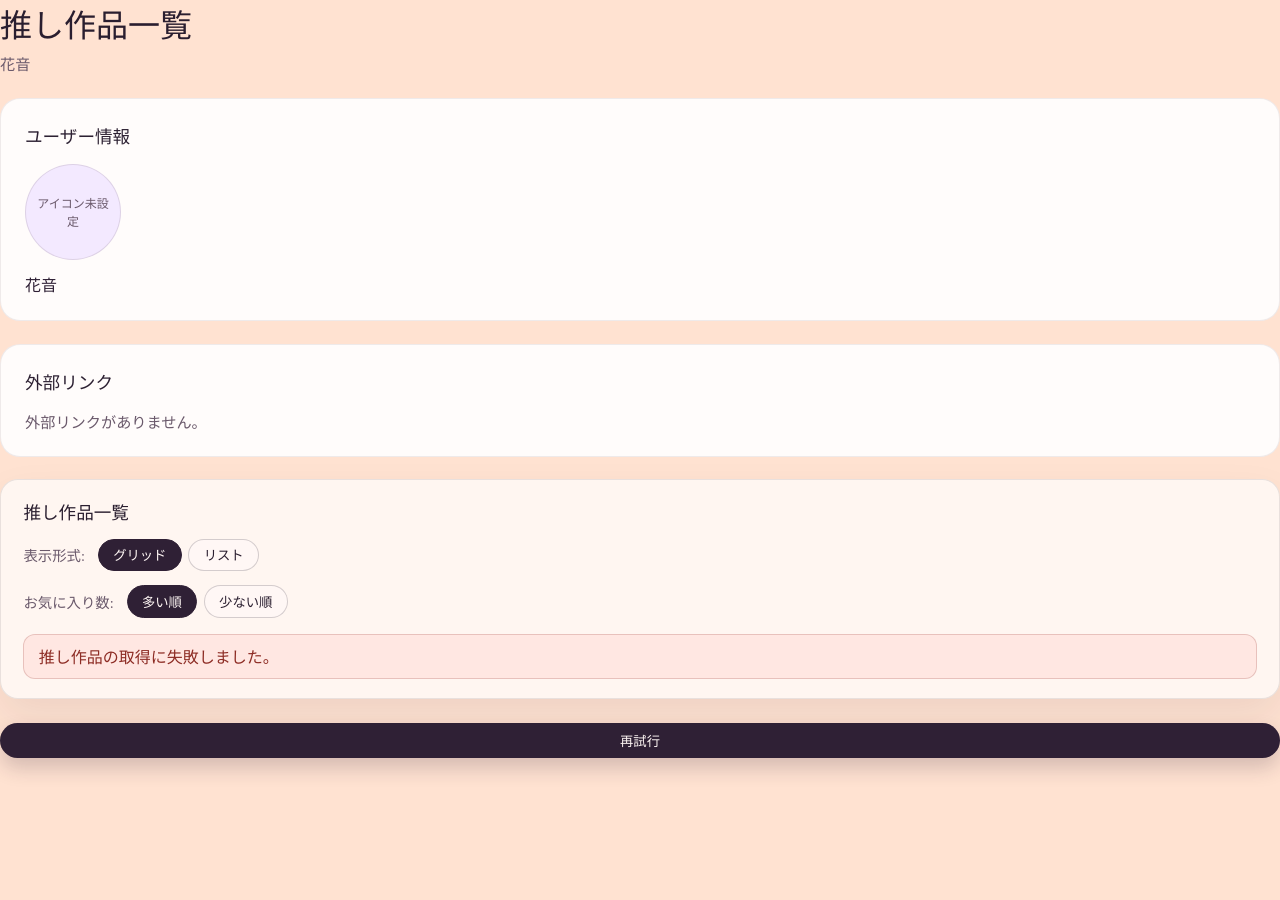
UserOshiSeriesPage › 再試行で全セクションを再取得する
The image size is (1280, 900).
expect the text "推し作品の取得に失敗しました。" is shown: met, box [23,634,1257,679]
Click the button "再試行" at point(640, 740), box [0,723,1279,758]
(page scrolled)
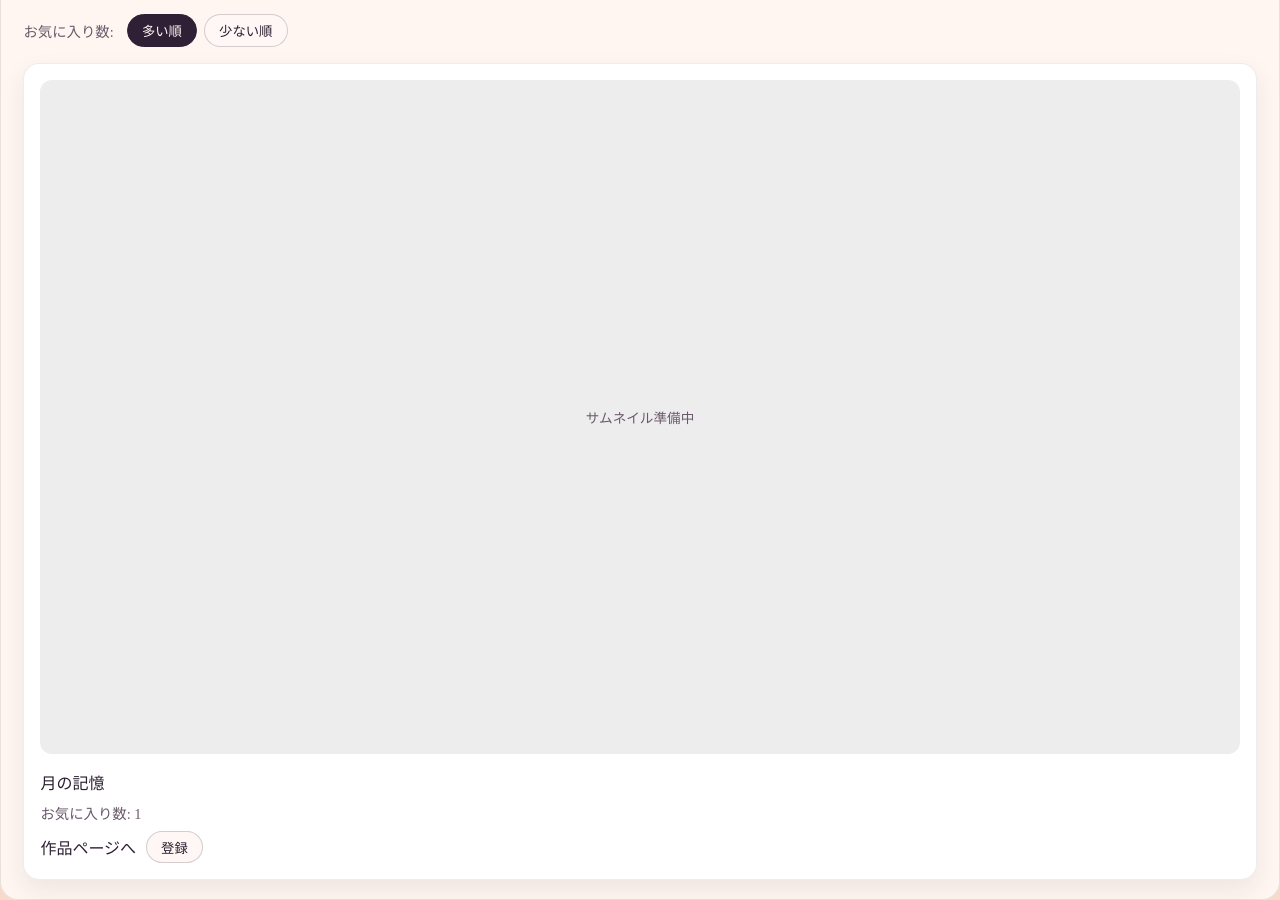
expect the link "月の記憶" is shown: met, box [40,775,104,792]
